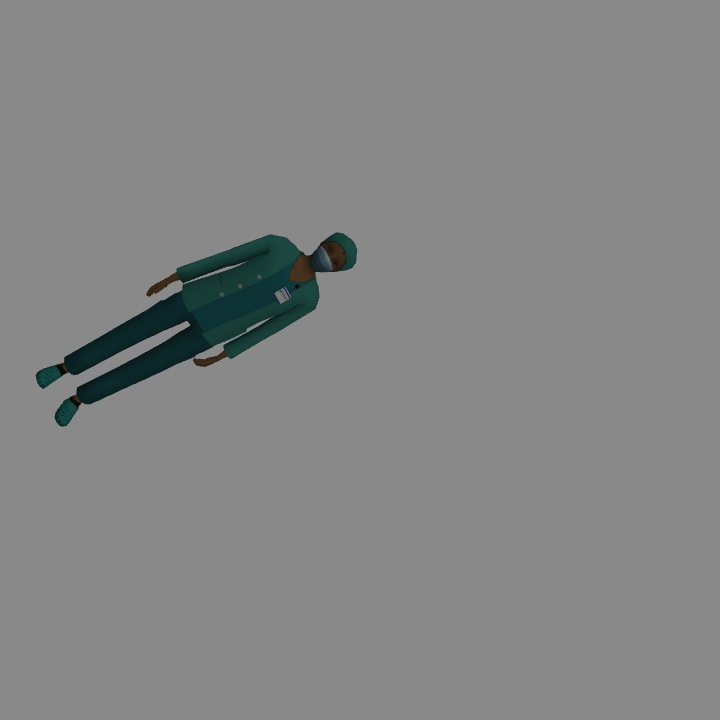victim: (38, 232, 358, 426)
